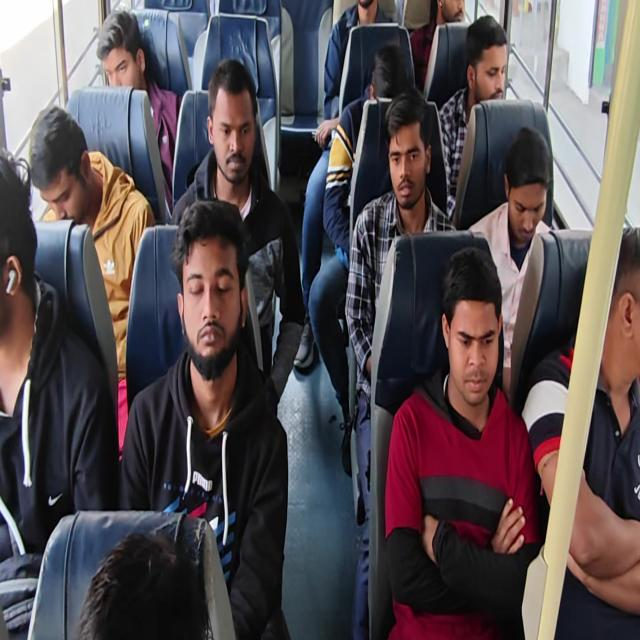person: (72, 518, 220, 640), (165, 208, 244, 360), (30, 105, 113, 235), (0, 133, 39, 340), (202, 65, 264, 178), (599, 262, 640, 388), (452, 279, 496, 396), (95, 17, 153, 98), (384, 108, 430, 196), (506, 162, 545, 250), (466, 32, 514, 101), (367, 51, 413, 117), (437, 0, 470, 30), (354, 0, 380, 15)
